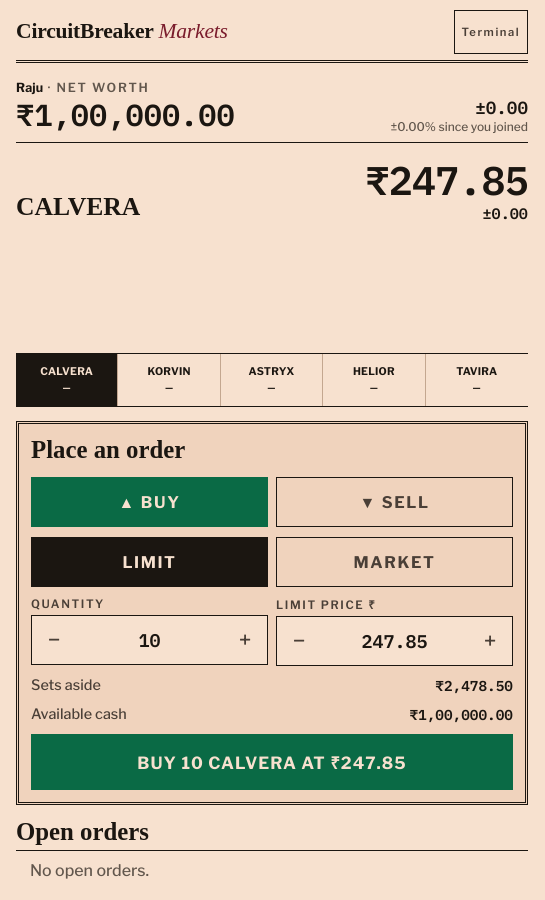
Test: placing an order from a phone on http (paper theme) › when the exchange fails, says so and logs the error
Click the button "BUY 10 CALVERA AT ₹247.85" at (272, 762), box [31,734,513,790]
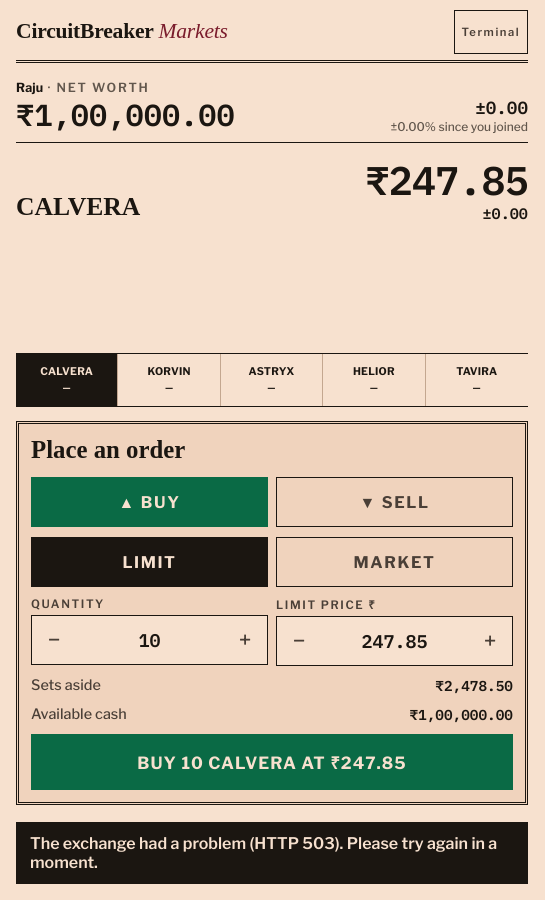
Result: the message reads "The exchange had a problem (HTTP 503). Please try again in a moment." at [30,834,497,872]
